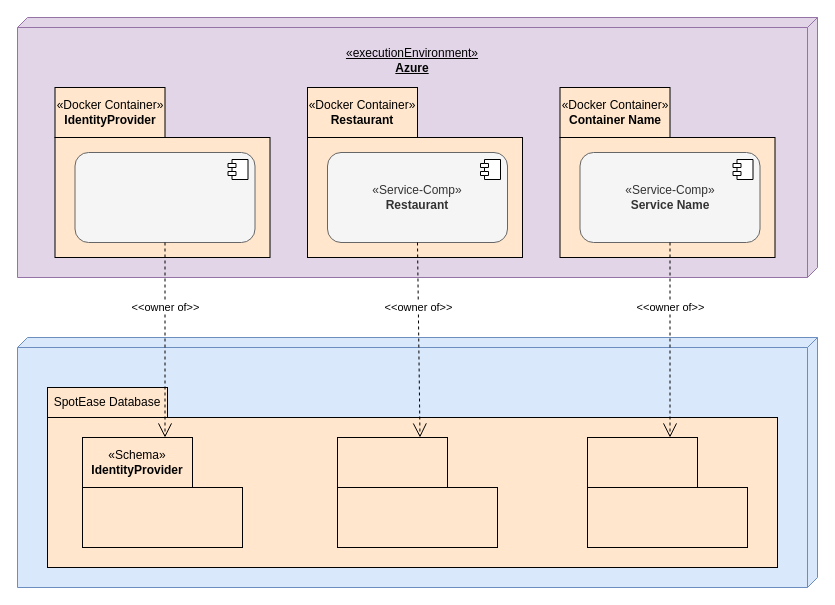
The diagram is 835 pixels wide and 605 high, and some of its shapes have lost their labels. The shapes that lost their labels are listed below. From the top down, each one's box as (x1, y1, x2, y2) in pixels, then its label:
(74, 152, 255, 242): «Service-Comp» IdentityProvider
(336, 436, 448, 488): «Schema» Restaurant
(16, 336, 818, 588): «executionEnvironment» Postgres Instance
(586, 436, 698, 488): «Schema» SchemaName
